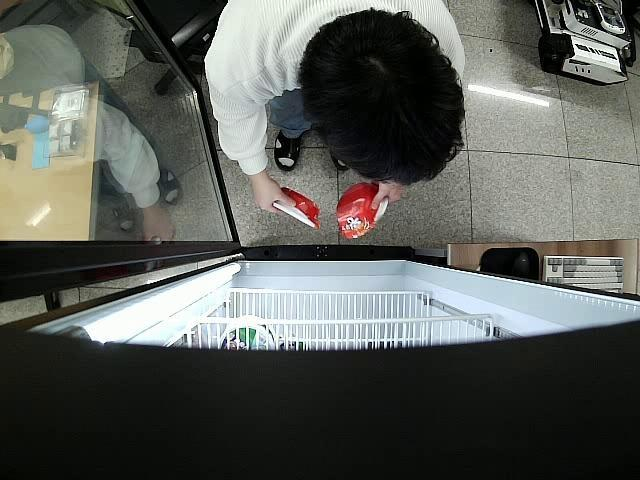10_wangTtukkeong: (337, 183, 390, 240), (270, 186, 320, 231)
